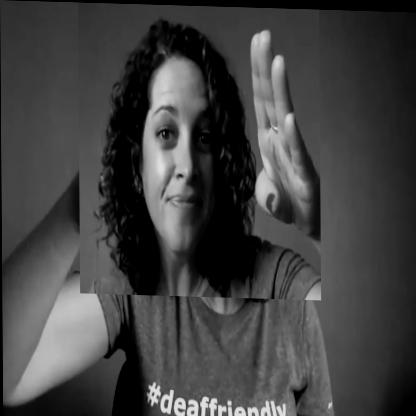Hello: (78, 2, 321, 298)
